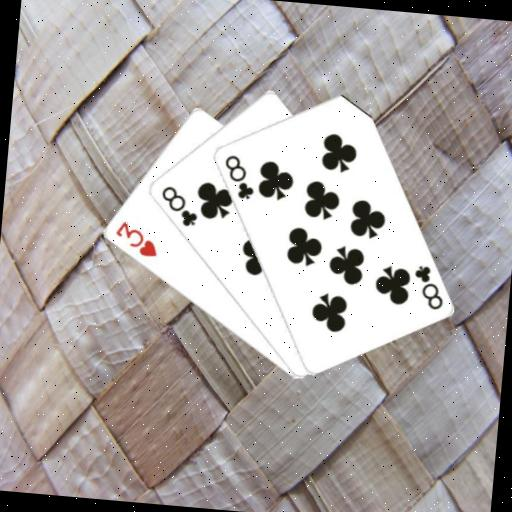3H: (110, 217, 162, 260)
8C: (155, 182, 201, 230), (218, 151, 259, 202), (408, 261, 448, 312)
